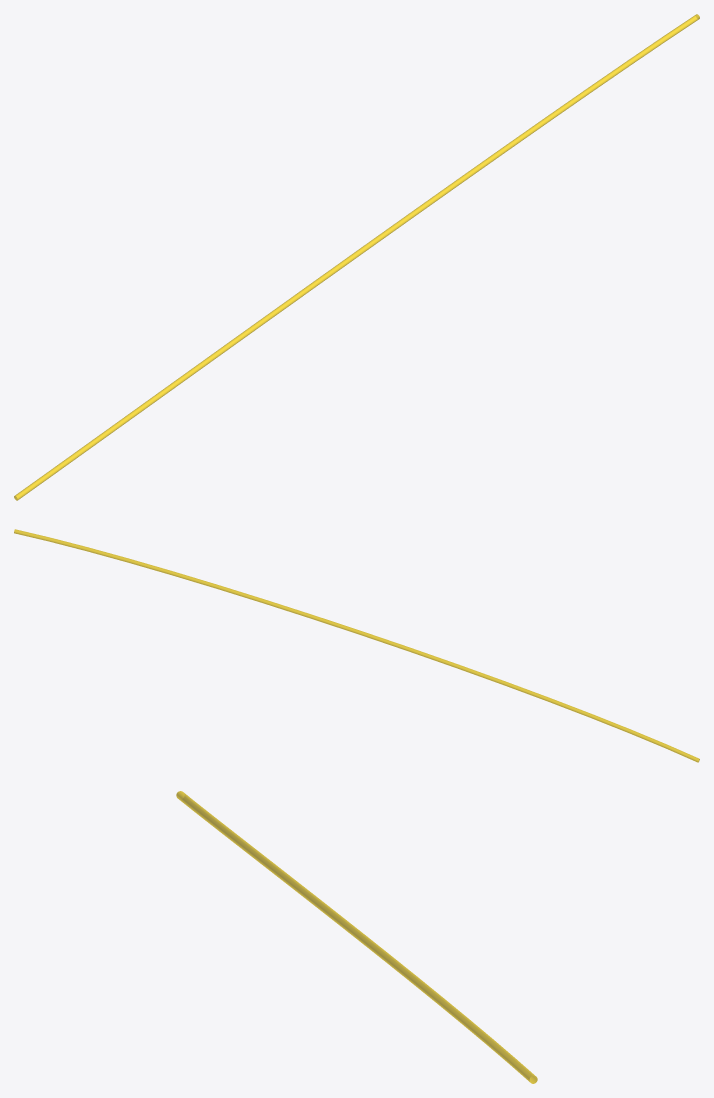
File: Event_75125125_track_35.fbx
3 renders of one model, top to bottom at view 1: azimuth 30°, elevation 25°; view 2: azimuth 150°, elevation 25°; view 3: azimuth 270°, elevation 25°, orthographic. The views are drawn at different scales.
Parts seen in each view (by area): view 1: Model; view 2: Model; view 3: Model.
Boxes of the visible parts, x1,y1,x2,y2 form: Model: (14,14,699,500); Model: (14,529,699,762); Model: (176,791,537,1083).
Size of the model in its own units: 6.49 by 1.58 by 1.7.
